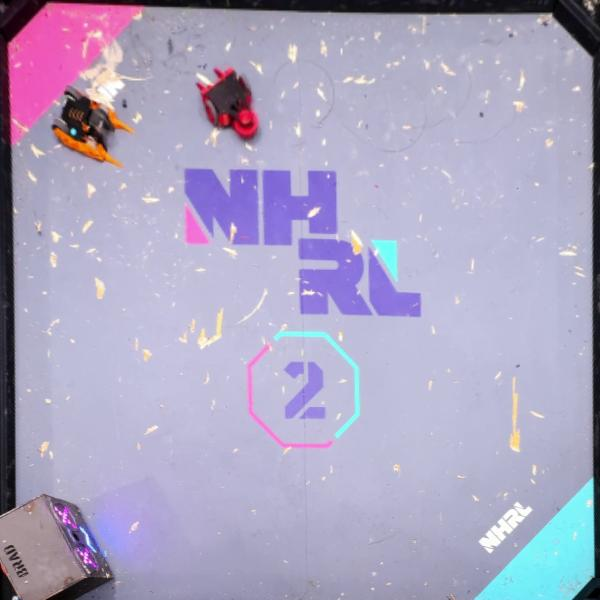housebot: (0, 495, 118, 600)
robot: (51, 88, 136, 168), (194, 65, 259, 140)
